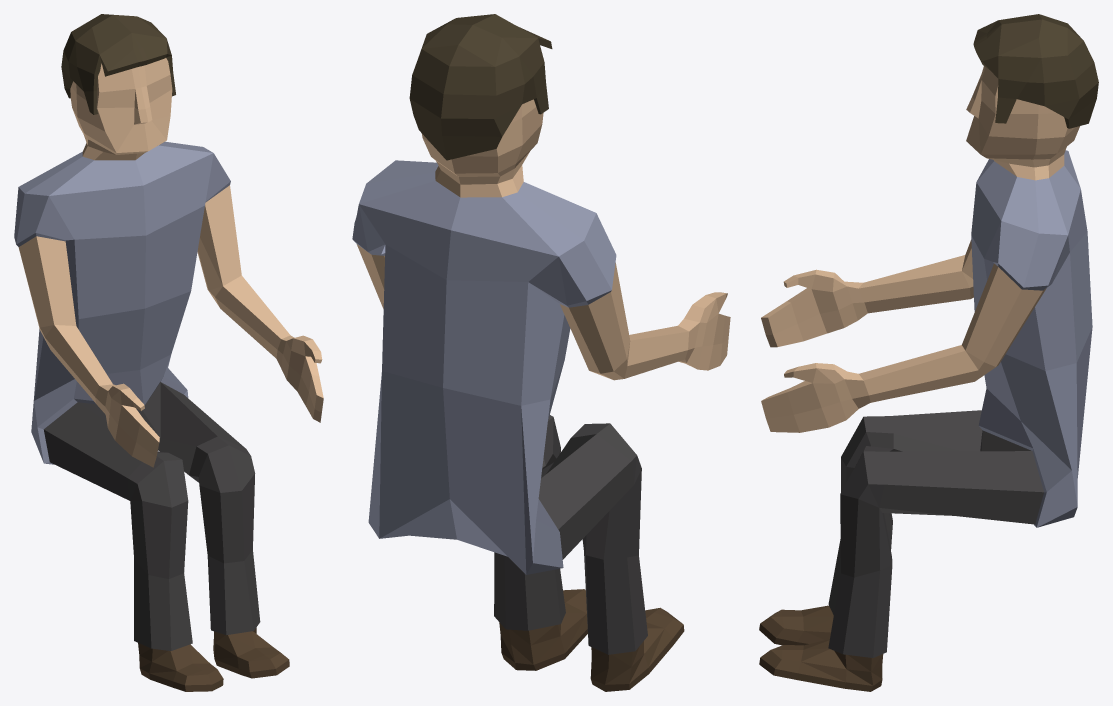
The model's file is Male_Crowd_SittingRelaxed.glb.
3 views of the same model, side by side, from view 1: azimuth 30°, elevation 25°; view 2: azimuth 150°, elevation 25°; view 3: azimuth 270°, elevation 25° (orthographic). The views are drawn at different scales.
Parts seen in each view (by area): view 1: Male_Crowd_SittingRelaxed; view 2: Male_Crowd_SittingRelaxed; view 3: Male_Crowd_SittingRelaxed.
Part boxes in pixels (<box>): Male_Crowd_SittingRelaxed: <box>14,14,323,691</box>; Male_Crowd_SittingRelaxed: <box>352,14,730,691</box>; Male_Crowd_SittingRelaxed: <box>759,14,1098,691</box>.
Size of the model in its own units: 0.5631 by 1.51 by 0.7197.
